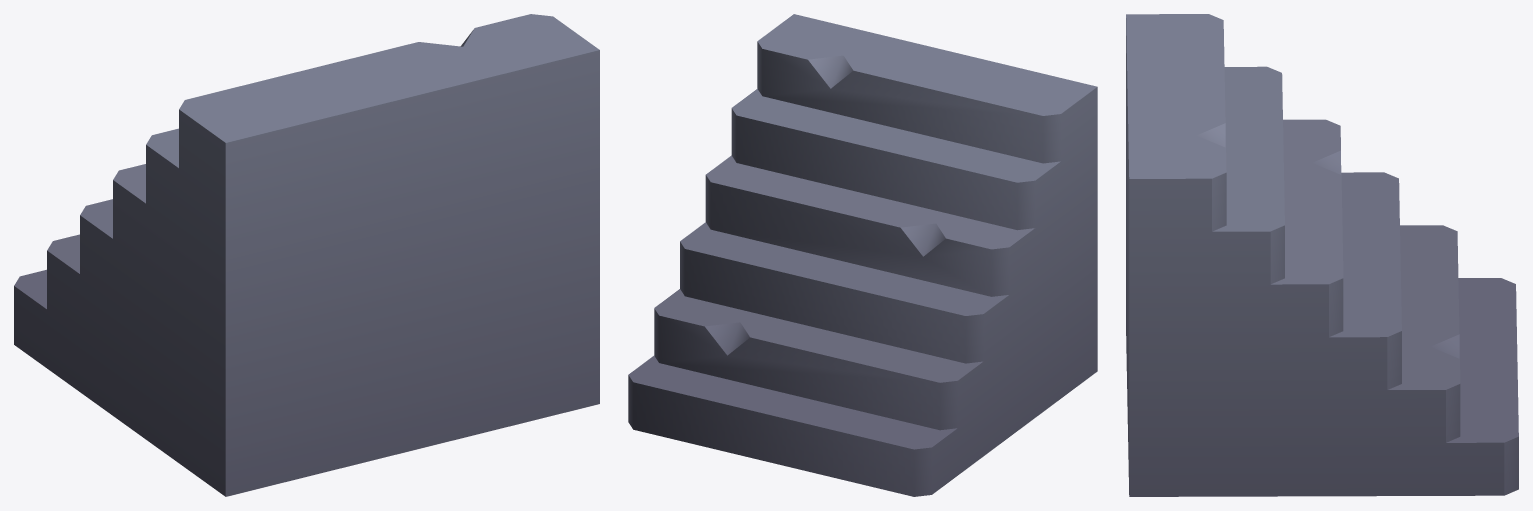
File: stairs.004_lev5.glb
3 renders of one model, left to right at view 1: azimuth 30°, elevation 25°; view 2: azimuth 150°, elevation 25°; view 3: azimuth 270°, elevation 25°, orthographic. The views are drawn at different scales.
Visible parts, largest first — view 1: stairs.004_lev5; view 2: stairs.004_lev5; view 3: stairs.004_lev5.
Boxes of the visible parts, x1,y1,x2,y2 form: stairs.004_lev5: (14, 14, 599, 496); stairs.004_lev5: (628, 14, 1097, 496); stairs.004_lev5: (1126, 14, 1518, 496).
Size of the model in its own units: 4.03 by 3.6 by 4.03.
Materials: 1 (1 with a texture image).
